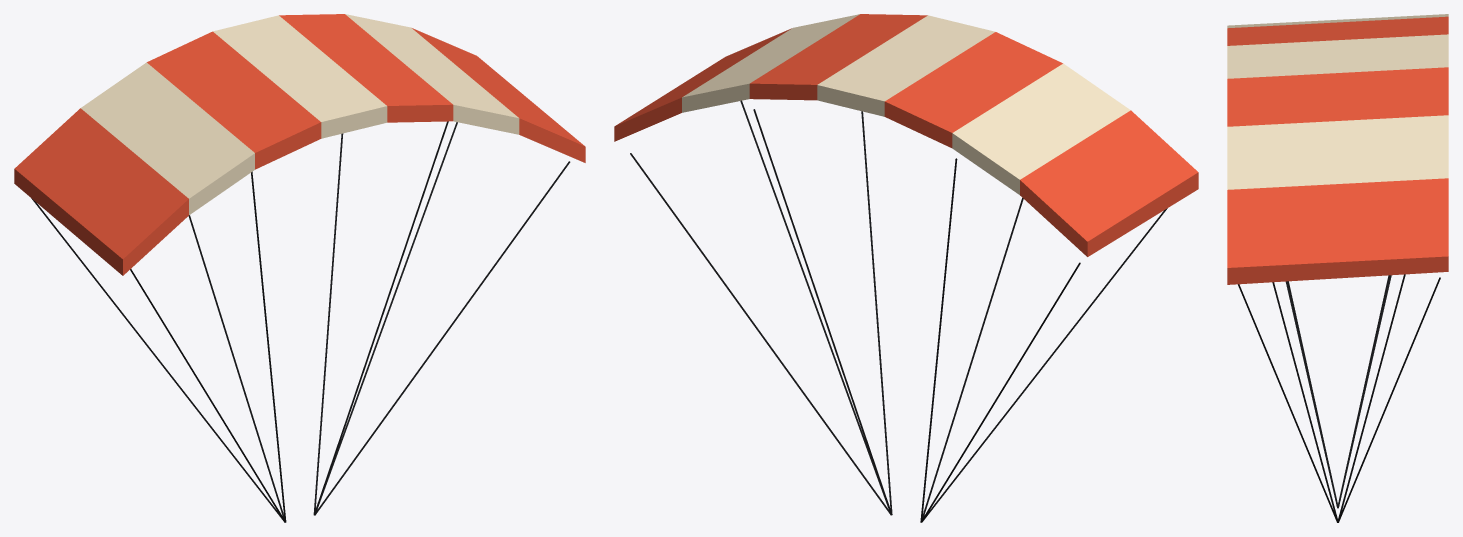
The model's file is canopy.glb.
The picture shows the model from 3 angles, left to right: view 1: azimuth 30°, elevation 25°; view 2: azimuth 150°, elevation 25°; view 3: azimuth 270°, elevation 25°; orthographic projection. The views are drawn at different scales.
Parts seen in each view (by area): view 1: canopy; view 2: canopy; view 3: canopy.
Boxes of the visible parts, x1,y1,x2,y2 form: canopy: (14, 14, 585, 522); canopy: (614, 14, 1198, 522); canopy: (1227, 14, 1448, 522).
Size of the model in its own units: 6.4 by 6.03 by 2.6.
